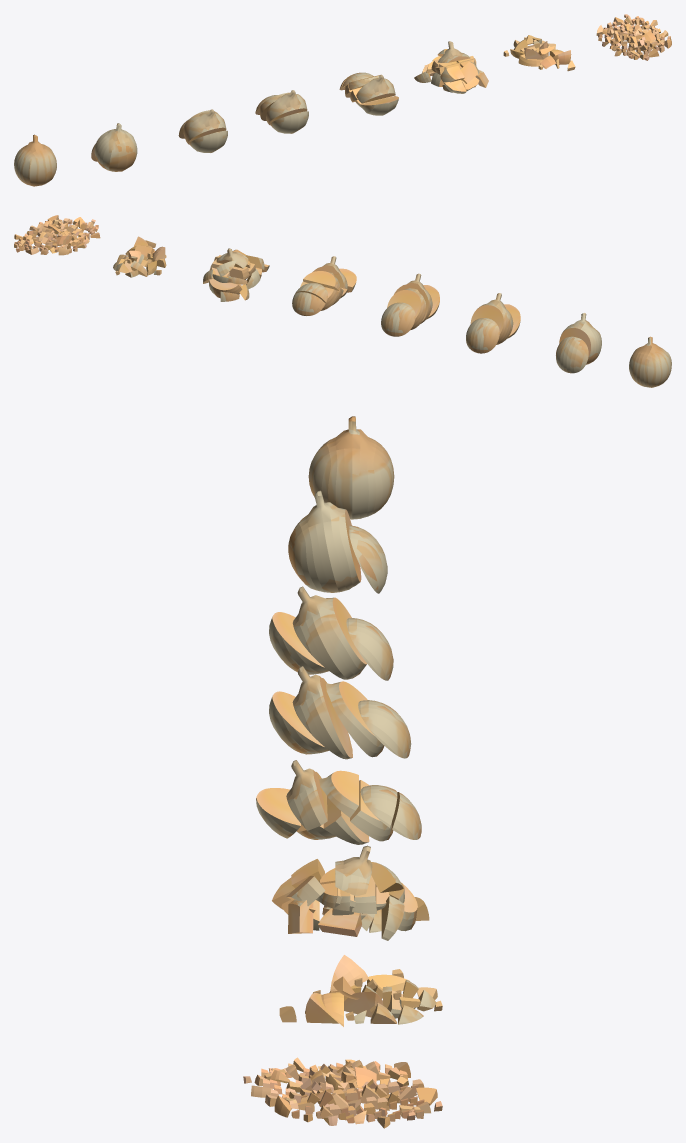
The model's file is onion.fbx.
The picture shows the model from 3 angles, top to bottom: view 1: azimuth 30°, elevation 25°; view 2: azimuth 150°, elevation 25°; view 3: azimuth 270°, elevation 25°; orthographic projection. The views are drawn at different scales.
Parts seen in each view (by area): view 1: OnionSlice7, OnionSlice5, OnionSlice4, OnionSlice3, OnionSlice1, OnionSlice0, OnionSlice2, OnionSlice6; view 2: OnionSlice7, OnionSlice5, OnionSlice3, OnionSlice4, OnionSlice2, OnionSlice1, OnionSlice0, OnionSlice6; view 3: OnionSlice5, OnionSlice7, OnionSlice4, OnionSlice3, OnionSlice2, OnionSlice1, OnionSlice6, OnionSlice0.
Boxes of the visible parts, x1,y1,x2,y2 form: OnionSlice7: [596, 14, 671, 60]; OnionSlice5: [414, 41, 488, 93]; OnionSlice4: [339, 72, 398, 115]; OnionSlice3: [255, 90, 308, 133]; OnionSlice1: [91, 123, 137, 171]; OnionSlice0: [14, 134, 56, 186]; OnionSlice2: [178, 109, 227, 152]; OnionSlice6: [503, 35, 575, 71]; OnionSlice7: [14, 215, 100, 255]; OnionSlice5: [203, 248, 269, 301]; OnionSlice3: [381, 273, 439, 336]; OnionSlice4: [292, 256, 356, 315]; OnionSlice2: [466, 293, 520, 353]; OnionSlice1: [556, 313, 601, 373]; OnionSlice0: [629, 336, 671, 387]; OnionSlice6: [113, 236, 166, 277]; OnionSlice5: [272, 845, 429, 940]; OnionSlice7: [243, 1057, 442, 1128]; OnionSlice4: [256, 760, 421, 844]; OnionSlice3: [269, 666, 411, 759]; OnionSlice2: [269, 586, 393, 680]; OnionSlice1: [288, 490, 387, 593]; OnionSlice6: [279, 955, 442, 1026]; OnionSlice0: [308, 416, 394, 519].
Bounding box in the file's own units: 164 × 12.59 × 21.86.
